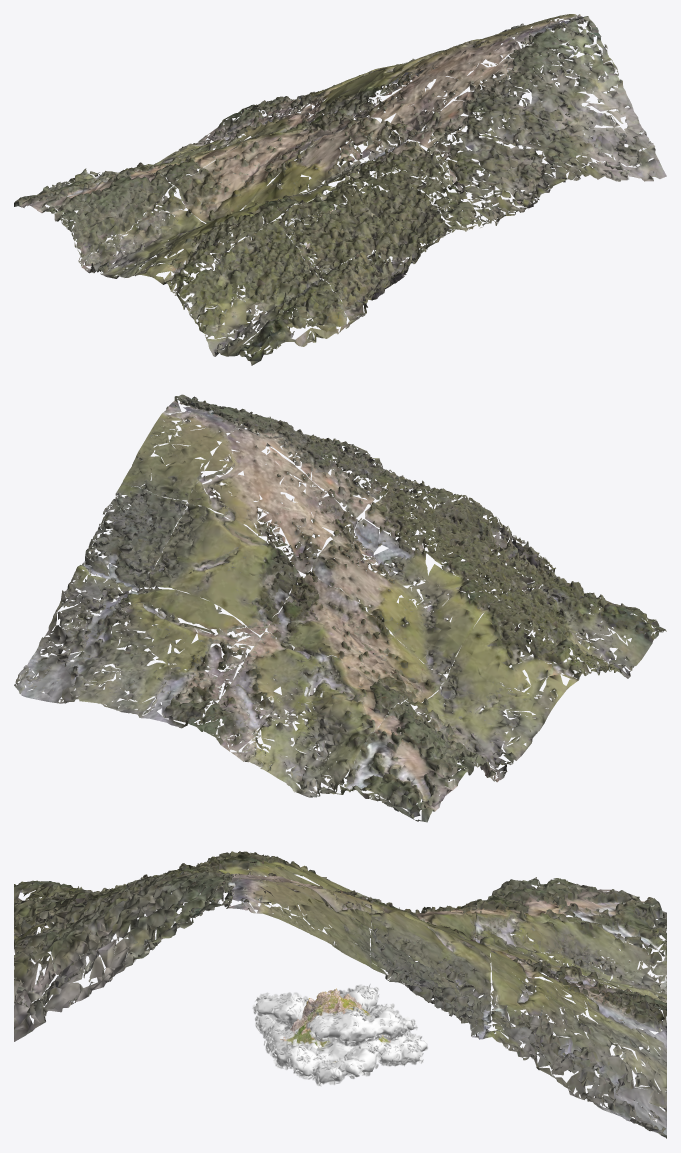
The model's file is mountains.glb.
The picture shows the model from 3 angles, top to bottom: view 1: azimuth 30°, elevation 25°; view 2: azimuth 150°, elevation 25°; view 3: azimuth 270°, elevation 25°; orthographic projection. The views are drawn at different scales.
Visible parts, largest first — view 1: Mountain; view 2: Mountain; view 3: Mountain, Cloudy_Mountain.
Boxes of the visible parts, x1,y1,x2,y2 form: Mountain: [14, 14, 666, 365]; Mountain: [14, 394, 666, 822]; Mountain: [14, 851, 666, 1138]; Cloudy_Mountain: [252, 984, 428, 1086].
Size of the model in its own units: 277 by 140 by 279.
Materials: 4 (3 with a texture image).
